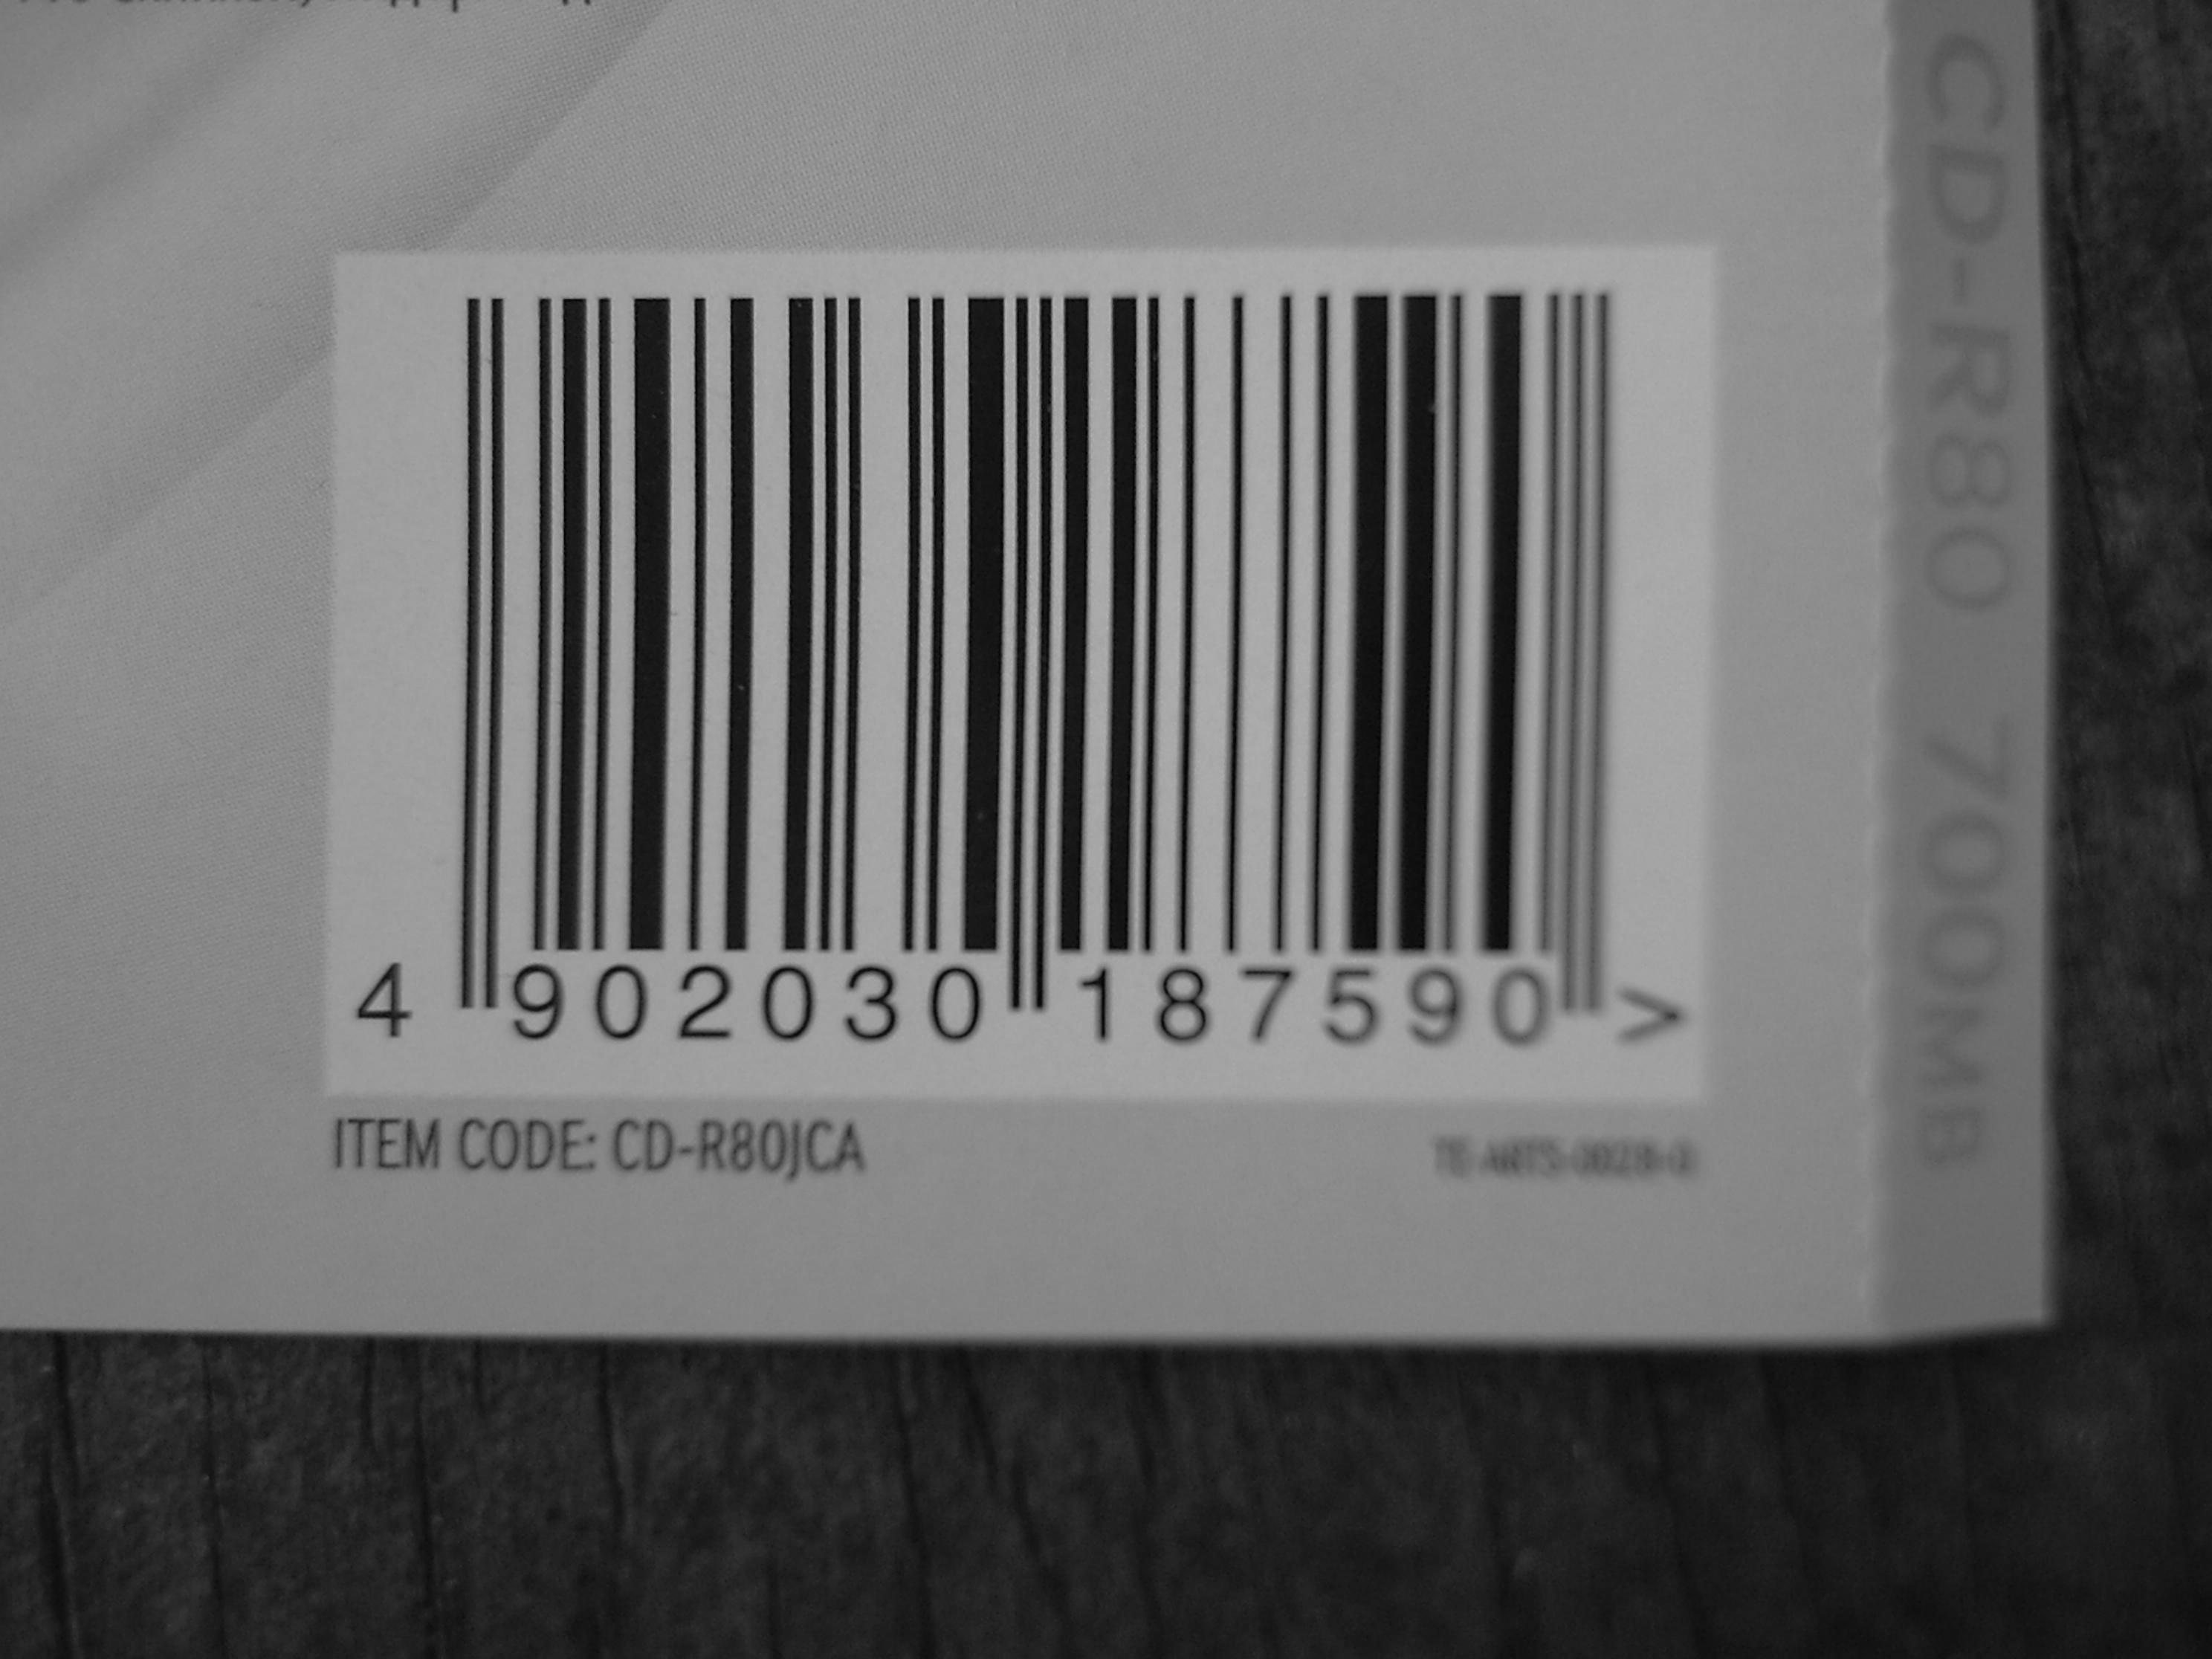Barcode: (388, 251, 1677, 1030)
